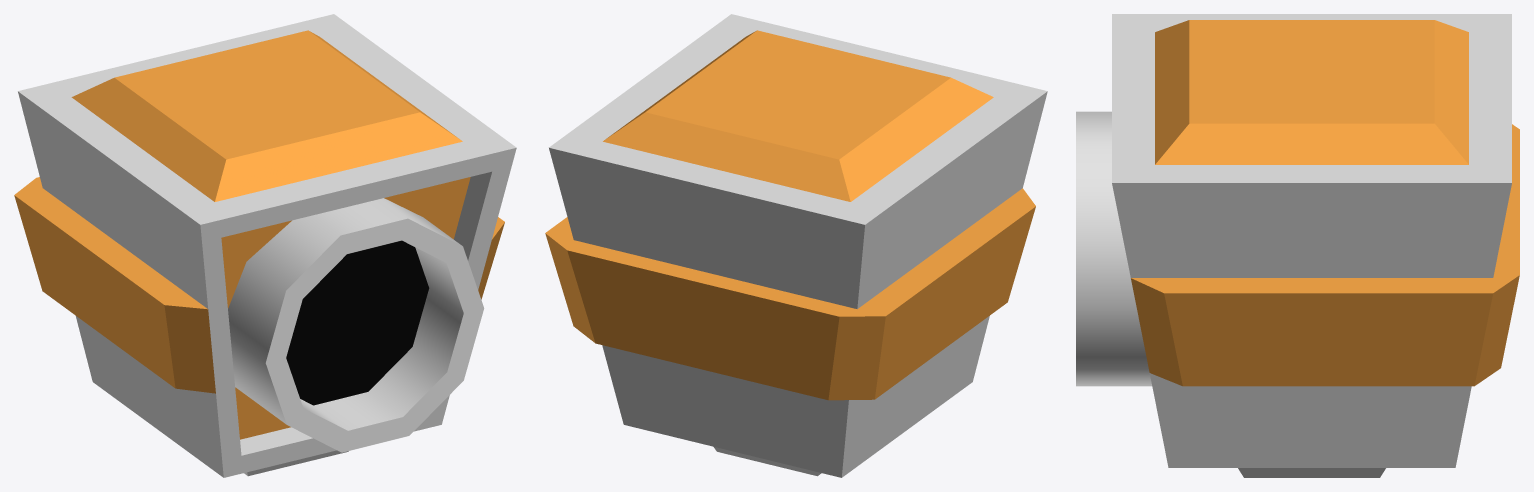
Rendered from Bot_2_Top.fbx.
3 views of the same model, side by side, from view 1: azimuth 30°, elevation 25°; view 2: azimuth 150°, elevation 25°; view 3: azimuth 270°, elevation 25° (orthographic). The views are drawn at different scales.
Parts seen in each view (by area): view 1: Cube; view 2: Cube; view 3: Cube.
Part boxes in pixels (x1,y1,x2,y2): Cube: (14,14,516,477); Cube: (545,14,1047,477); Cube: (1076,14,1519,477).
Size of the model in its own units: 0.3225 by 0.3132 by 0.3321.
